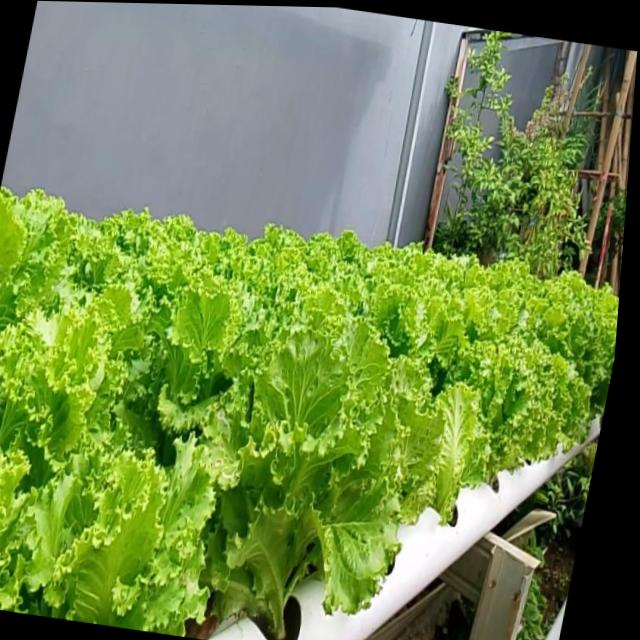Mature: (198, 323, 441, 640), (453, 331, 570, 489)
